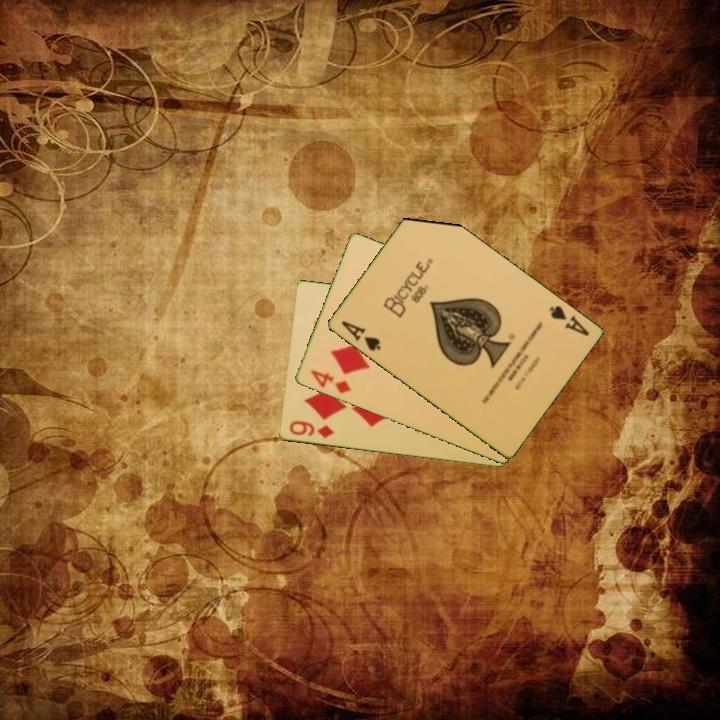4d: (307, 366, 354, 397)
9d: (285, 417, 336, 441)
As: (337, 317, 384, 354), (545, 302, 592, 339)
